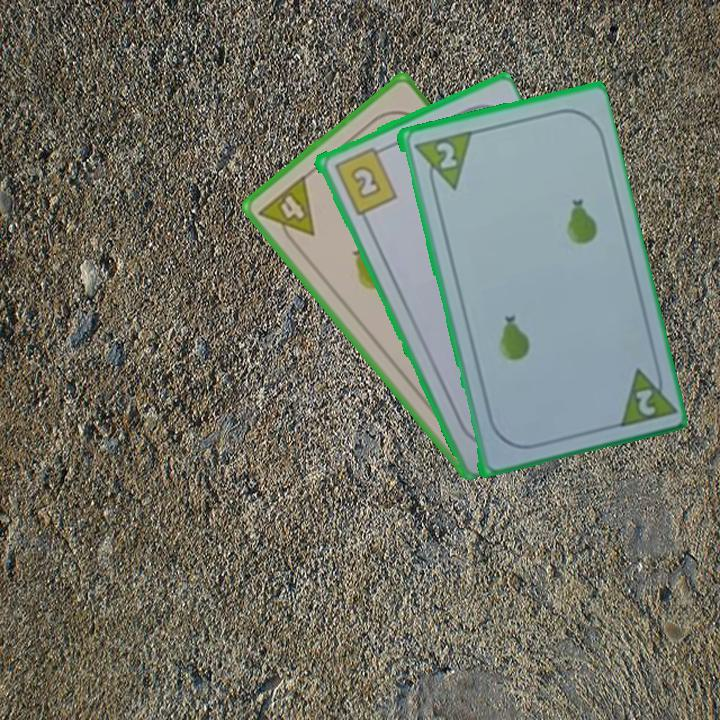2b: (330, 143, 399, 218)
2p: (409, 127, 473, 196), (631, 384, 658, 419)
4p: (254, 171, 318, 252)
